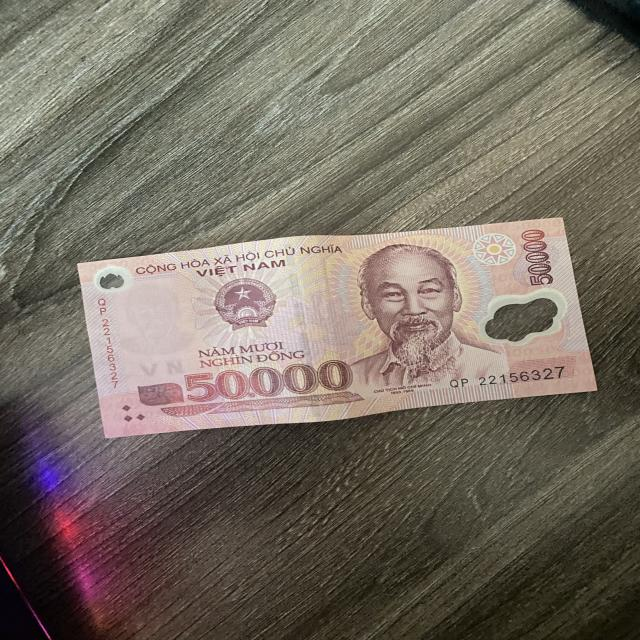50 000 VND: (77, 215, 600, 440)
